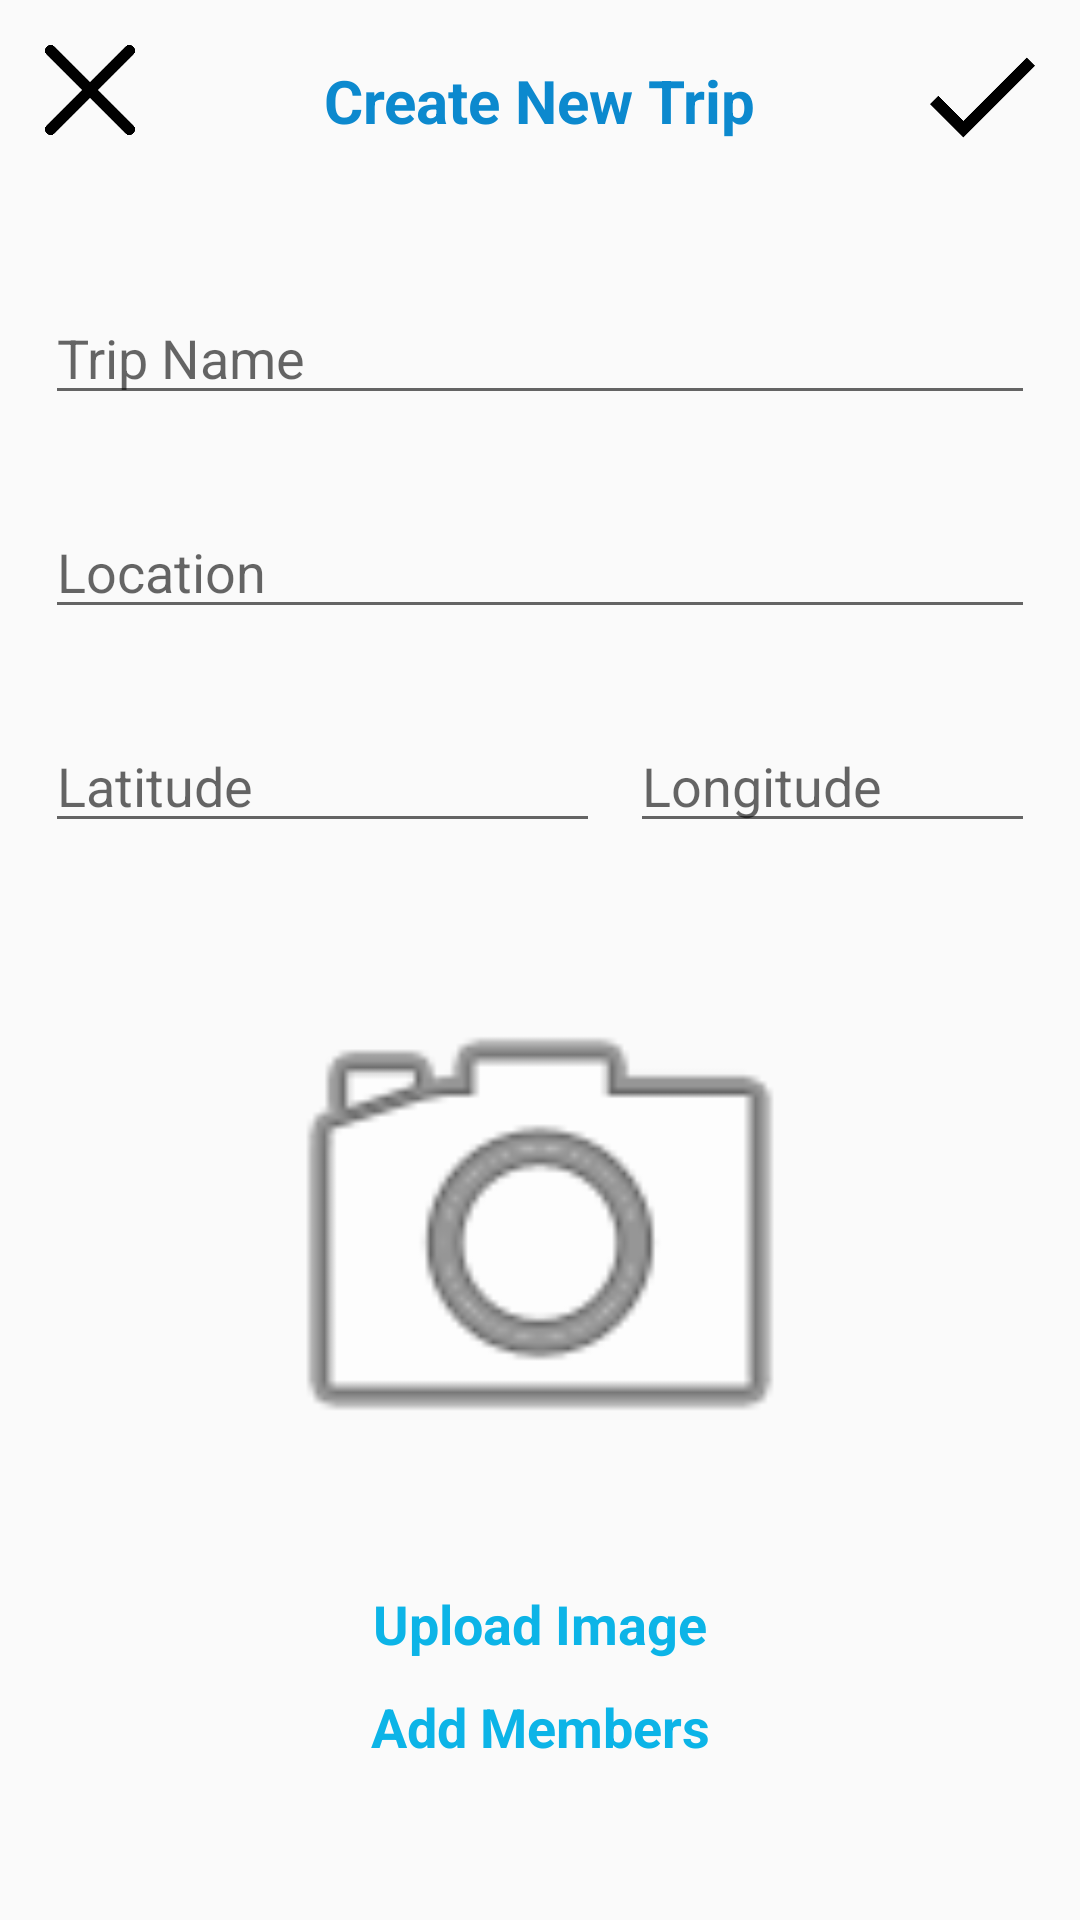

Icons on this 1080 × 1920 Android screen, each with the point to tap as (x=x, y=y):
checksymbol: (x=982, y=97)
close: (x=90, y=90)
